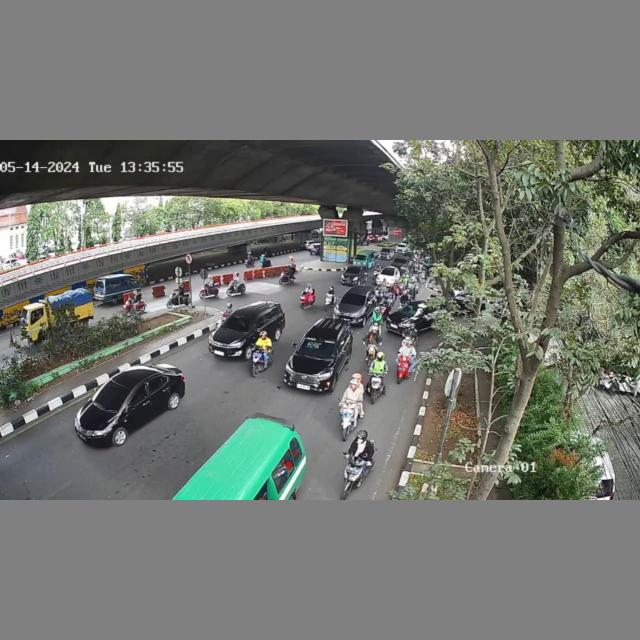windshield: (93, 380, 132, 410), (295, 335, 337, 359), (222, 311, 256, 332), (340, 293, 366, 306)
